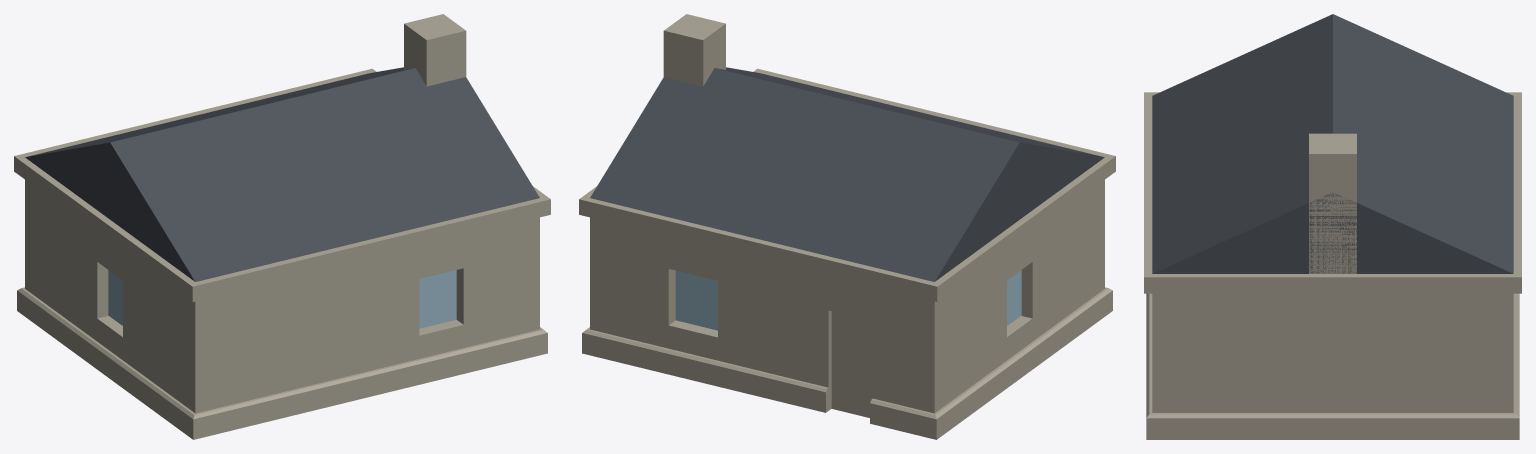
The picture shows the model from 3 angles, left to right: view 1: azimuth 30°, elevation 25°; view 2: azimuth 150°, elevation 25°; view 3: azimuth 270°, elevation 25°; orthographic projection. The views are drawn at different scales.
Parts seen in each view (by area): view 1: roof_slate, body_stone, trim_stone, glass_glass (×2); view 2: roof_slate, body_stone, trim_stone, glass_glass (×2); view 3: roof_slate, body_stone, trim_stone.
Part boxes in pixels (x1=…): roof_slate: x1=25, y1=67, x2=539, y2=281; body_stone: x1=25, y1=14, x2=539, y2=413; trim_stone: x1=14, y1=68, x2=550, y2=439; glass_glass (×2): x1=108, y1=270, x2=456, y2=328; roof_slate: x1=590, y1=67, x2=1104, y2=281; body_stone: x1=590, y1=14, x2=1104, y2=417; trim_stone: x1=579, y1=68, x2=1115, y2=439; glass_glass (×2): x1=675, y1=270, x2=1021, y2=330; roof_slate: x1=1152, y1=14, x2=1513, y2=273; body_stone: x1=1152, y1=133, x2=1513, y2=412; trim_stone: x1=1144, y1=92, x2=1521, y2=439.
Size of what is drawn, in the model's own units: 7.28 by 5.2 by 6.28.
